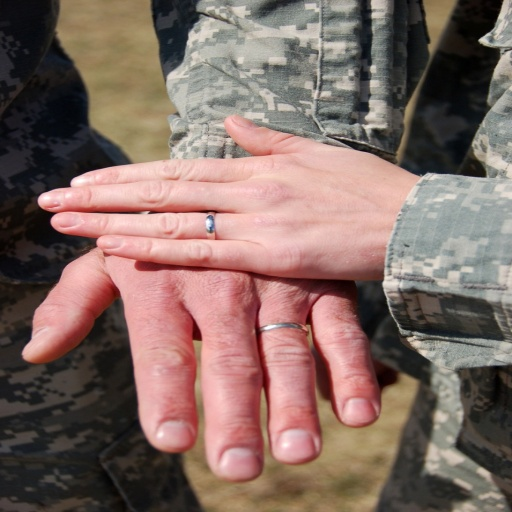hand: (14, 243, 385, 483), (37, 113, 420, 281)
